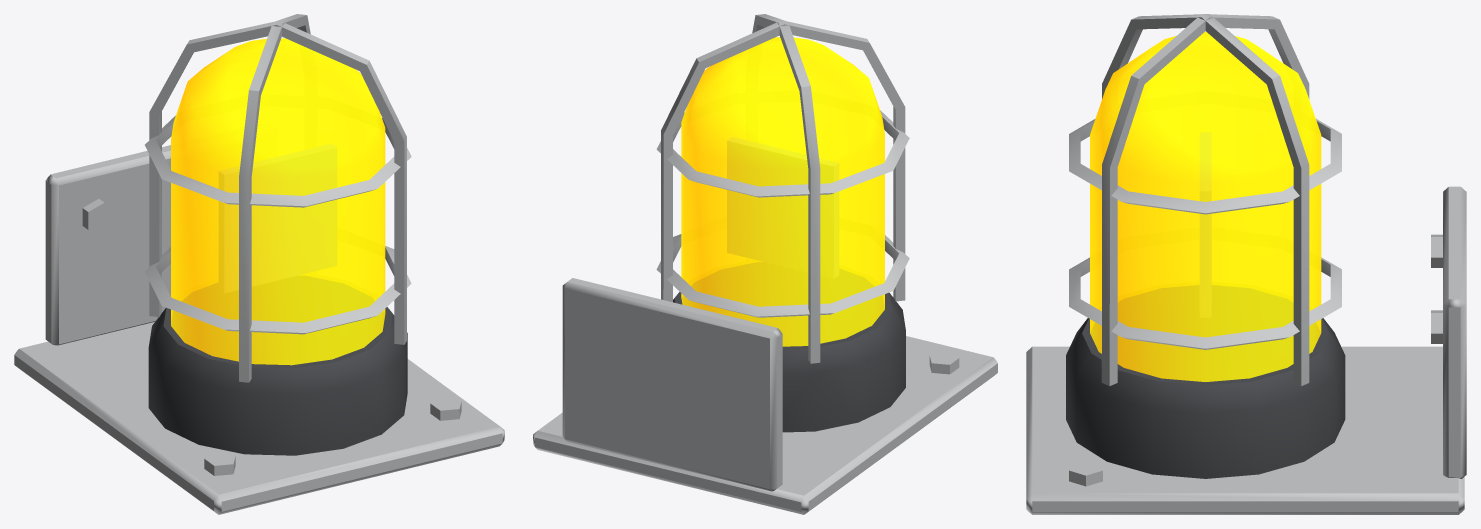
File: beacon.glb
The picture shows the model from 3 angles, left to right: view 1: azimuth 30°, elevation 25°; view 2: azimuth 150°, elevation 25°; view 3: azimuth 270°, elevation 25°; orthographic projection. The views are drawn at different scales.
Parts seen in each view (by area): view 1: beacon; view 2: beacon; view 3: beacon.
Boxes of the visible parts, left/top/right/bottom form: beacon: left=14, top=14, right=504, bottom=514; beacon: left=533, top=14, right=997, bottom=514; beacon: left=1026, top=14, right=1466, bottom=514.
Bounding box in the file's own units: 0.18 × 0.2358 × 0.221.
